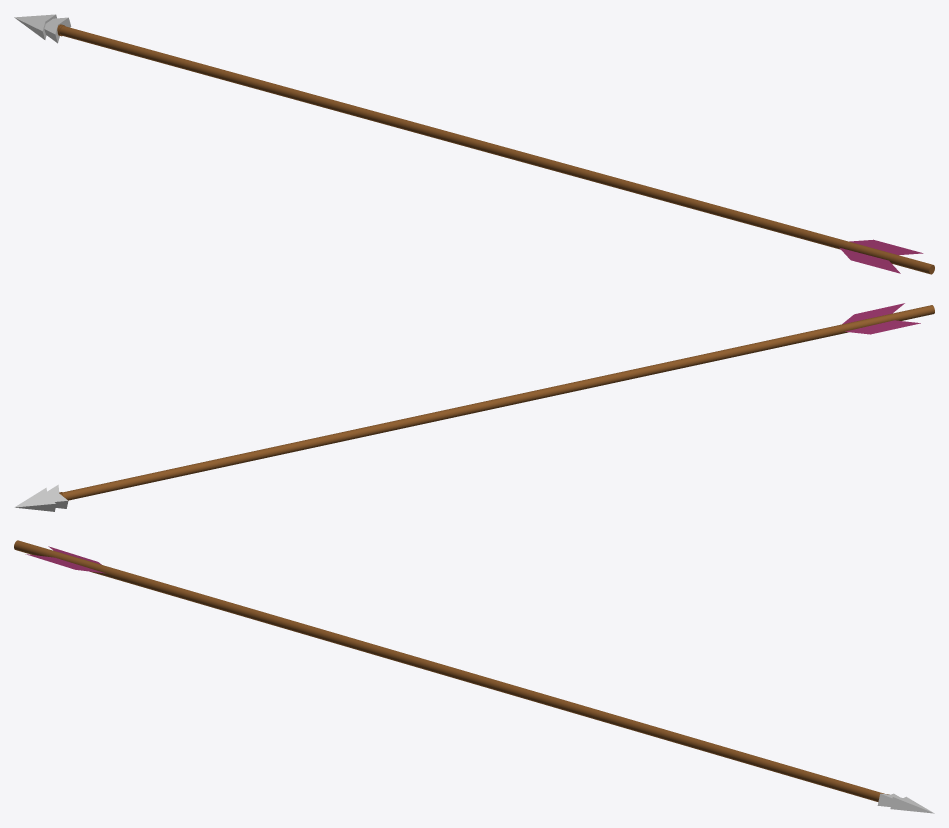
File: flechabyLoa.fbx
The picture shows the model from 3 angles, top to bottom: view 1: azimuth 90°, elevation 25°; view 2: azimuth 150°, elevation 25°; view 3: azimuth 270°, elevation 25°; orthographic projection. The views are drawn at different scales.
Visible parts, largest first — view 1: Shaft.004; view 2: Shaft.004; view 3: Shaft.004.
Part boxes in pixels (bbox=[...]): Shaft.004: bbox=[14, 14, 934, 274]; Shaft.004: bbox=[14, 303, 934, 511]; Shaft.004: bbox=[14, 540, 934, 813].
Bounding box in the file's own units: 70.92 × 2.75 × 105.
